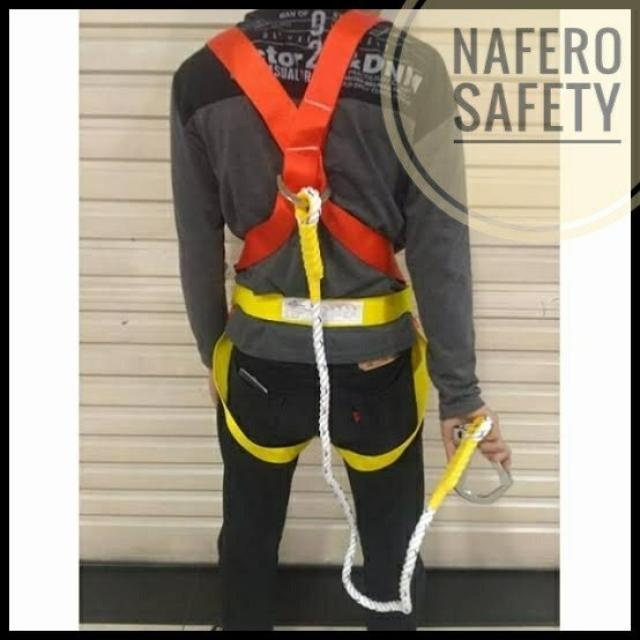Arnes_seguridad: (205, 10, 433, 472)
